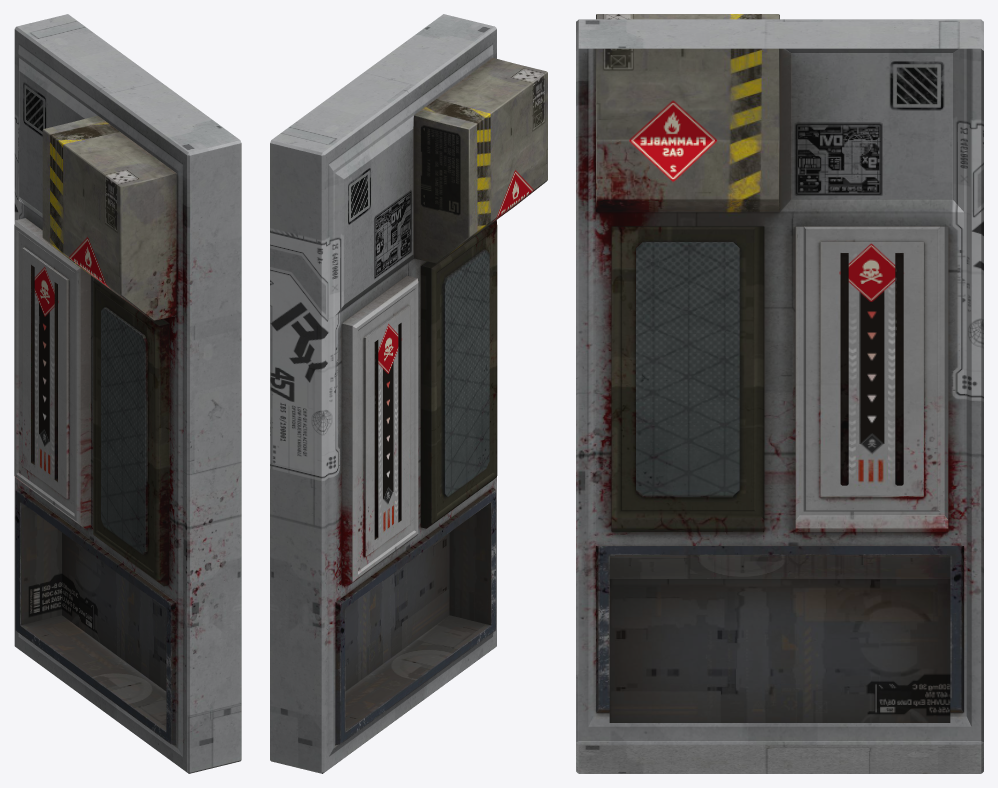
File: Map03_Derelict_GasLever.fbx
3 views of the same model, side by side, from view 1: azimuth 30°, elevation 25°; view 2: azimuth 150°, elevation 25°; view 3: azimuth 270°, elevation 25° (orthographic). The views are drawn at different scales.
Visible parts, largest first — view 1: KDK_Map03_Gaz_DisplayLever; view 2: KDK_Map03_Gaz_DisplayLever; view 3: KDK_Map03_Gaz_DisplayLever.
Boxes of the visible parts, x1,y1,x2,y2 form: KDK_Map03_Gaz_DisplayLever: (14,14,241,773); KDK_Map03_Gaz_DisplayLever: (270,14,547,773); KDK_Map03_Gaz_DisplayLever: (576,14,983,773).
Size of the model in its own units: 65.11 by 345 by 176.
